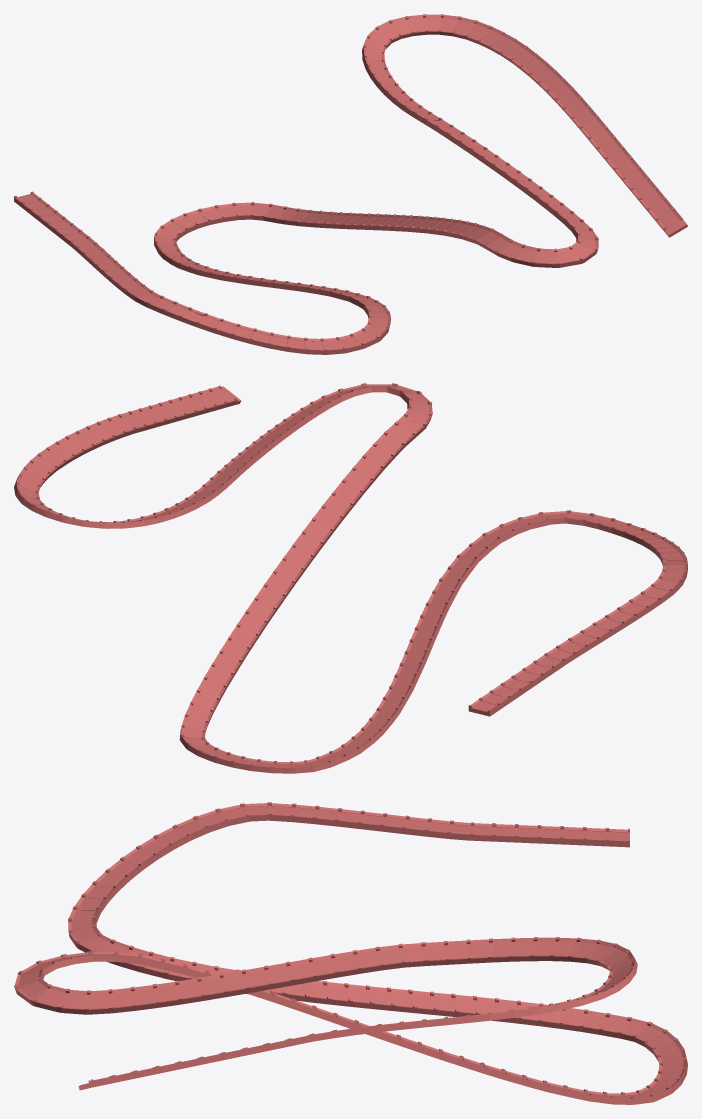
Rendered from railnew.fbx.
The picture shows the model from 3 angles, top to bottom: view 1: azimuth 30°, elevation 25°; view 2: azimuth 150°, elevation 25°; view 3: azimuth 270°, elevation 25°; orthographic projection. The views are drawn at different scales.
Parts seen in each view (by area): view 1: Cube; view 2: Cube; view 3: Cube.
Boxes of the visible parts, x1,y1,x2,y2 form: Cube: (14,14,687,354); Cube: (14,383,687,773); Cube: (14,802,687,1104).
Bounding box in the file's own units: 913 × 310 × 868.
